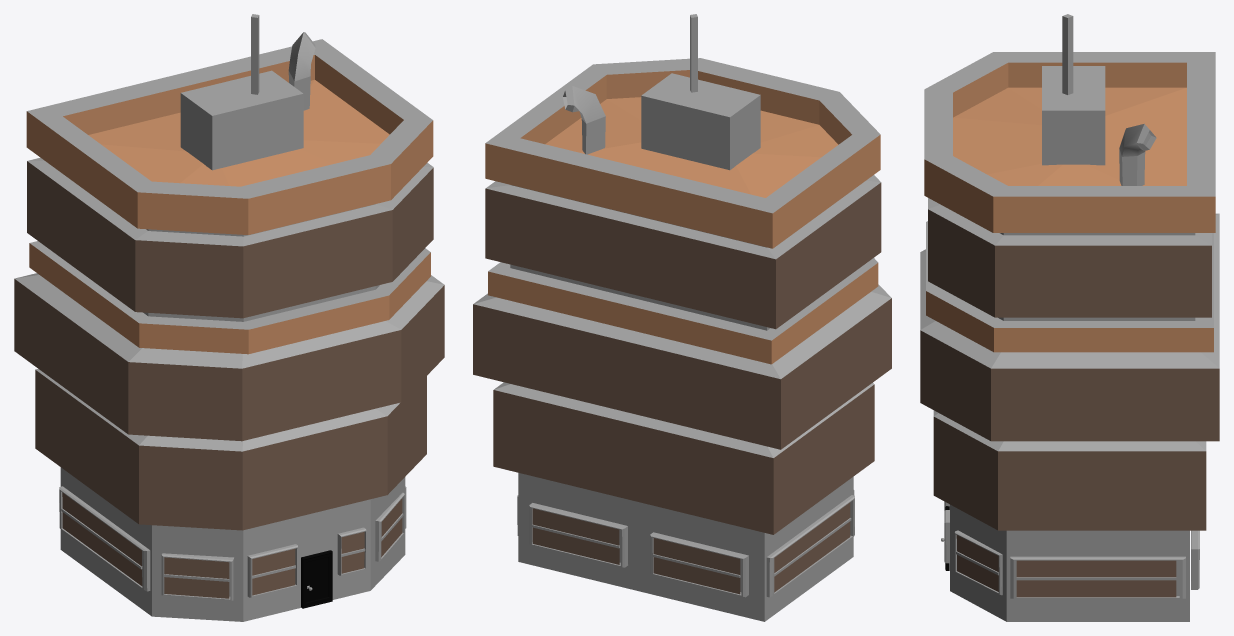
Rendered from FancyOffice.fbx.
The picture shows the model from 3 angles, left to right: view 1: azimuth 30°, elevation 25°; view 2: azimuth 150°, elevation 25°; view 3: azimuth 270°, elevation 25°; orthographic projection. The views are drawn at different scales.
Visible parts, largest first — view 1: pCube241, pCube242, polySurface523, polySurface516, polySurface517, pSphere15, polySurface519, pCylinder73, polySurface518, pCylinder75; view 2: pCube241, pCube242, polySurface522, polySurface521, polySurface523, pCylinder73, pCylinder75; view 3: pCube241, polySurface520, pCube242, polySurface519, pCylinder73, pCylinder75, polySurface521.
Part boxes in pixels (x1,y1,x2,y2): pCube241: (14, 39, 444, 621); pCube242: (180, 70, 303, 170); polySurface523: (59, 486, 150, 591); polySurface516: (161, 553, 234, 600); polySurface517: (247, 544, 297, 597); pSphere15: (301, 550, 332, 608); polySurface519: (375, 492, 404, 561); pCylinder73: (288, 32, 315, 110); polySurface518: (337, 527, 366, 575); pCylinder75: (251, 14, 259, 94); pCube241: (473, 58, 891, 621); pCube242: (641, 73, 760, 170); polySurface522: (650, 532, 748, 597); polySurface521: (529, 503, 627, 567); polySurface523: (766, 495, 854, 597); pCylinder73: (563, 86, 605, 154); pCylinder75: (690, 14, 697, 92); pCube241: (920, 52, 1219, 621); polySurface520: (1010, 556, 1185, 598); pCube242: (1042, 66, 1105, 165); polySurface519: (954, 530, 1002, 595); pCylinder73: (1119, 123, 1156, 185); pCylinder75: (1062, 14, 1073, 94); polySurface521: (1191, 530, 1199, 589).
Bounding box in the file's own units: 71.14 × 117 × 58.15.
